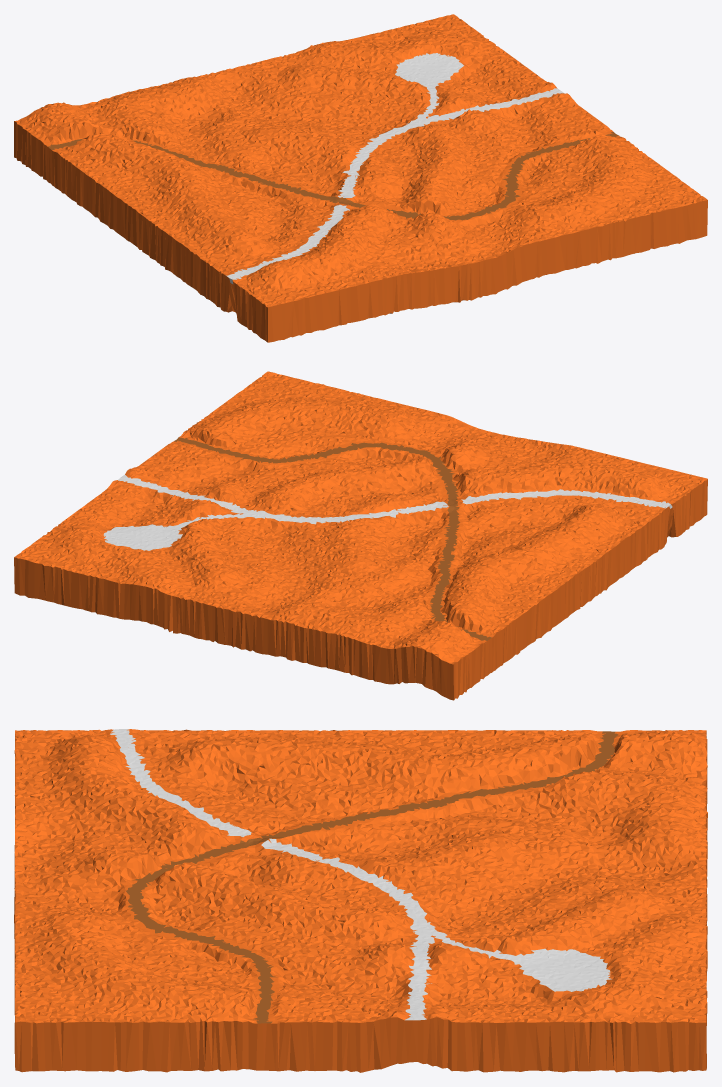
Rendered from mapFall.fbx.
The picture shows the model from 3 angles, top to bottom: view 1: azimuth 30°, elevation 25°; view 2: azimuth 150°, elevation 25°; view 3: azimuth 270°, elevation 25°; orthographic projection. The views are drawn at different scales.
Parts seen in each view (by area): view 1: Plane.001; view 2: Plane.001; view 3: Plane.001.
Boxes of the visible parts, left/top/right/bottom form: Plane.001: left=14, top=14, right=707, bottom=342; Plane.001: left=14, top=371, right=707, bottom=700; Plane.001: left=14, top=729, right=707, bottom=1072.
Size of the model in its own units: 24080 by 3010 by 24097.
